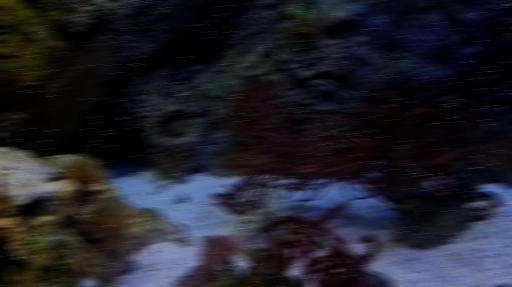Fish: (433, 177, 450, 197)
